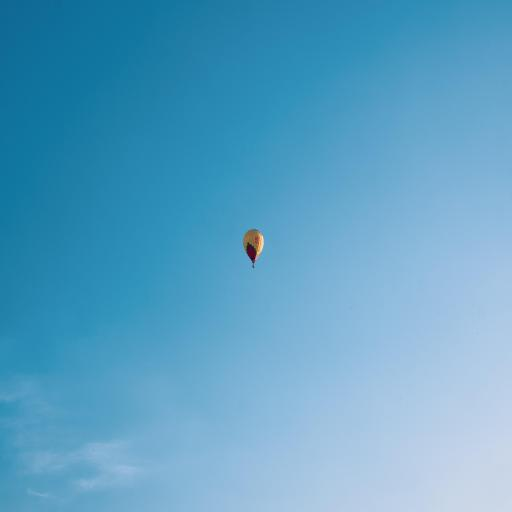hot air ballon: (243, 229, 264, 268)
